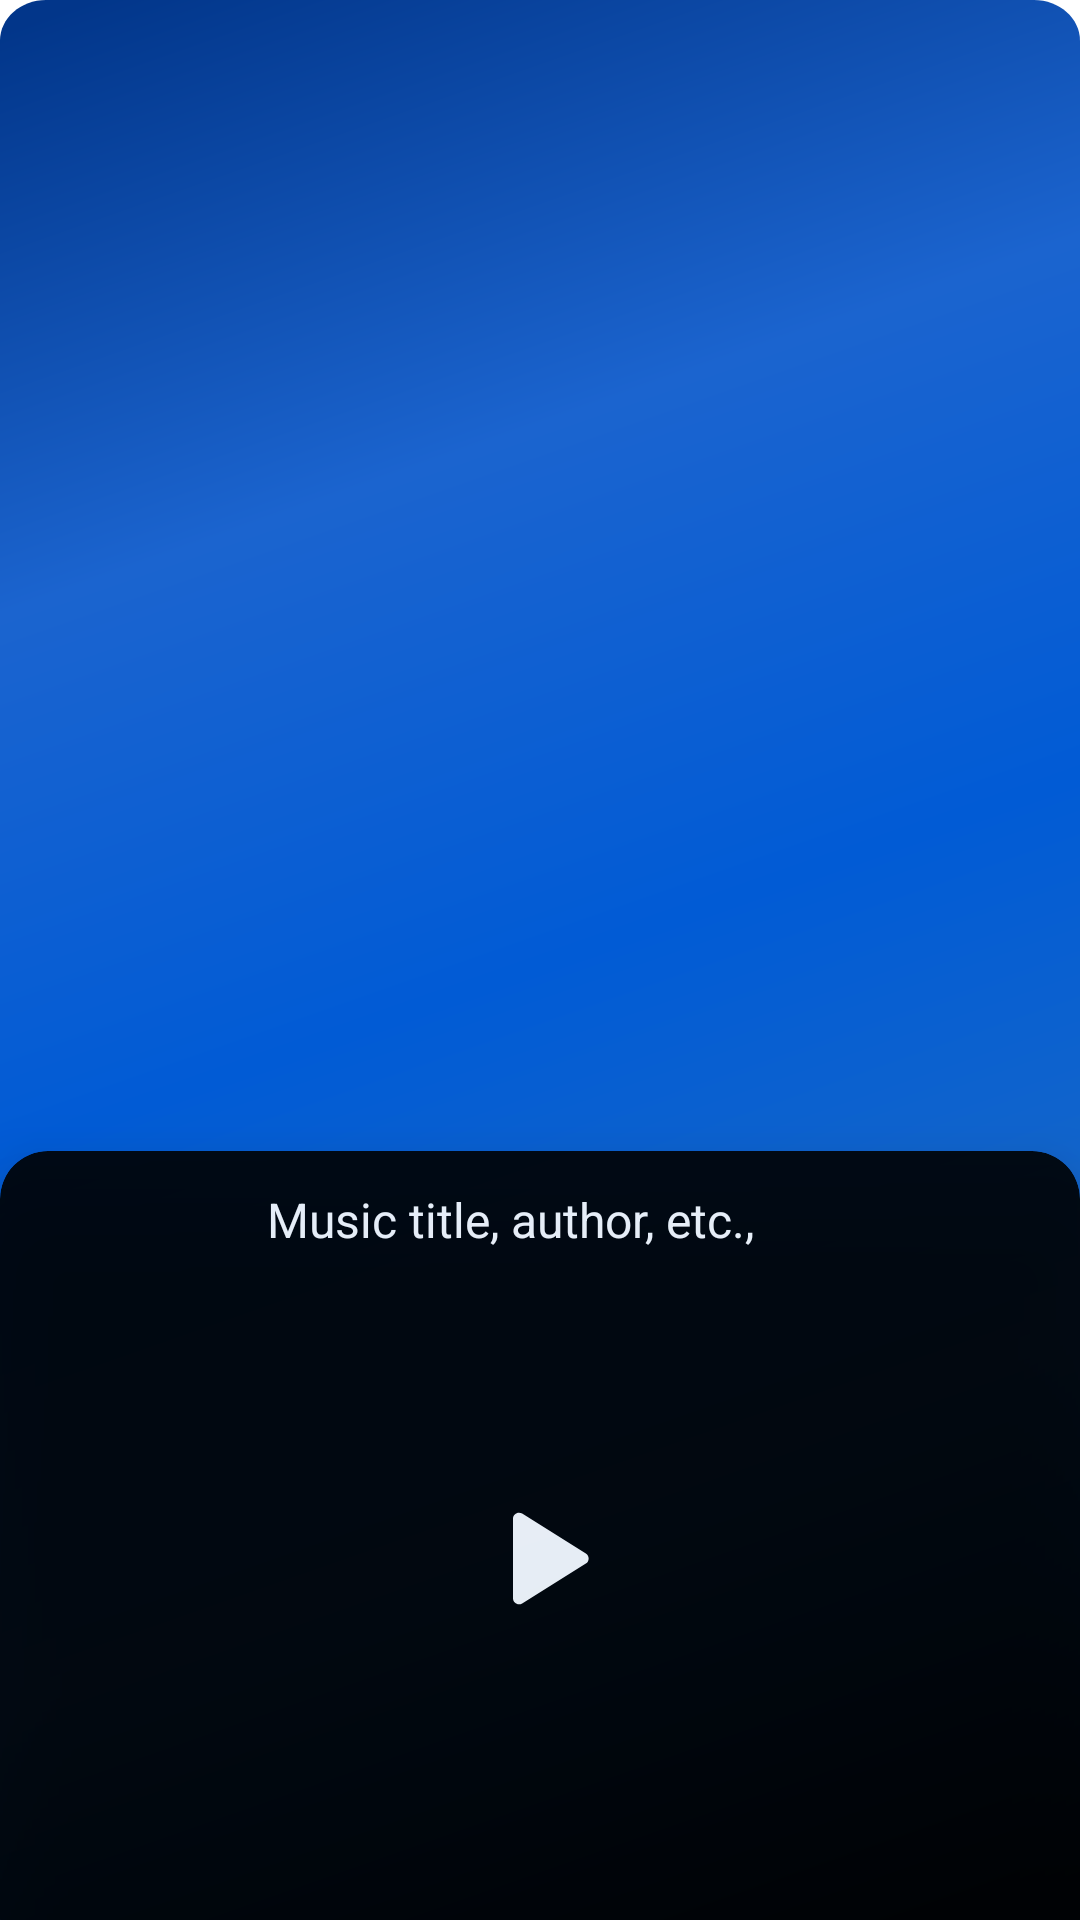

Icon click points for this 1080 x 1920 phone screenshot, format (x,y):
play: (551,1558)
